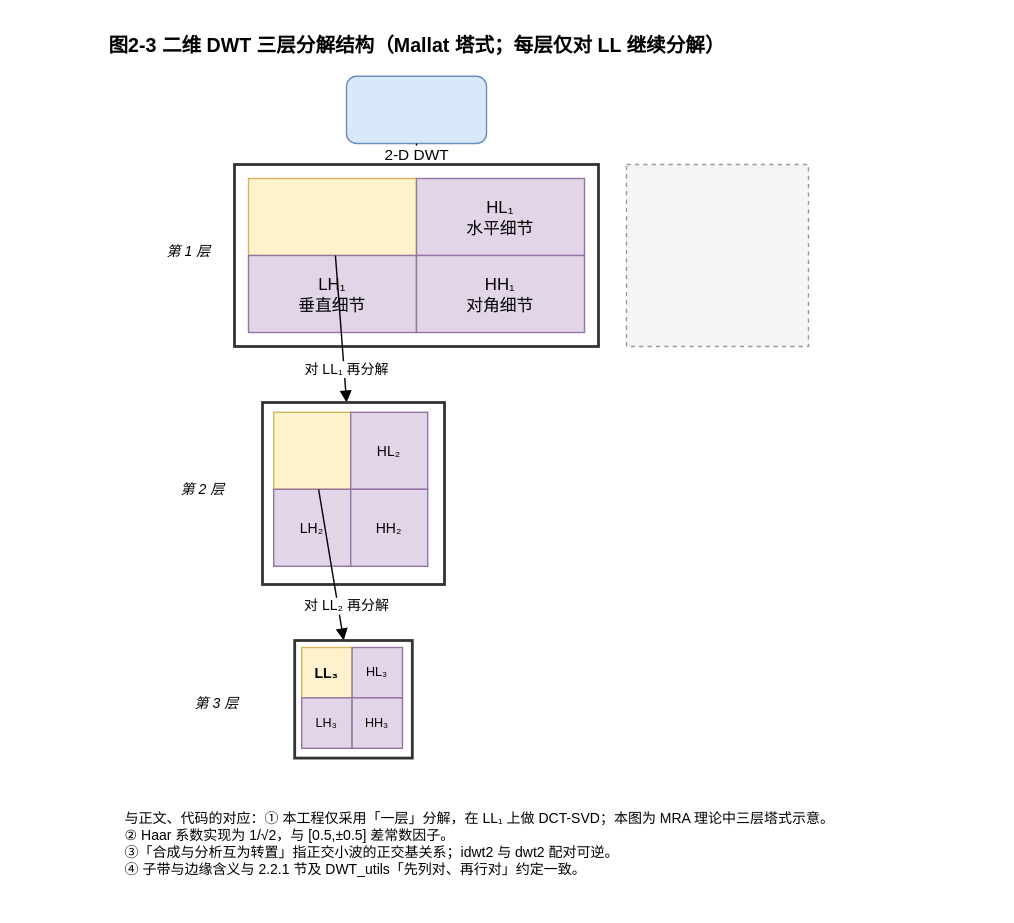
Image size: 1014x923. Some labels were removed from this diagram. Each missing label, with the centre of its shape:
"LL₁ 近似 H/2×W/2" goes at pixel 331 216.
"LL₂ H/4×W/4" goes at pixel 311 450.
"原图 I H × W" goes at pixel 415 109.
"各层 LH、HL、HH 不再向下分裂 （高频金字塔）" goes at pixel 716 254.
